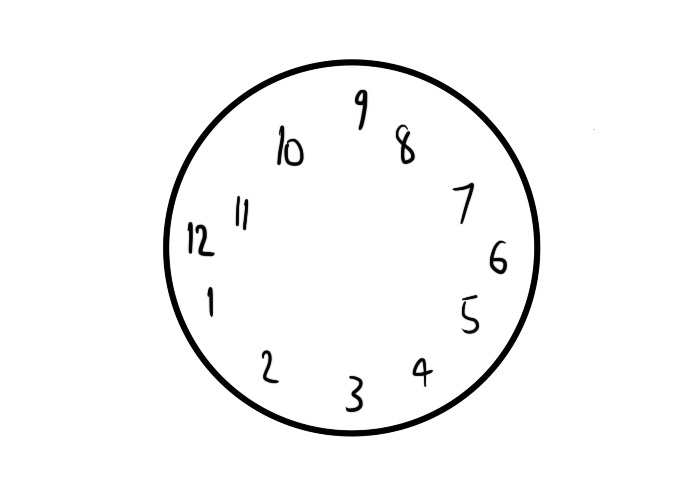eight: (393, 119, 418, 165)
eleven: (231, 193, 251, 234)
five: (455, 289, 482, 338)
four: (410, 356, 433, 390)
nine: (347, 81, 369, 134)
one: (201, 282, 216, 320)
seven: (449, 179, 476, 227)
six: (489, 234, 507, 277)
ten: (274, 121, 306, 174)
three: (343, 371, 365, 414)
twelve: (186, 217, 216, 259)
two: (259, 345, 277, 384)
